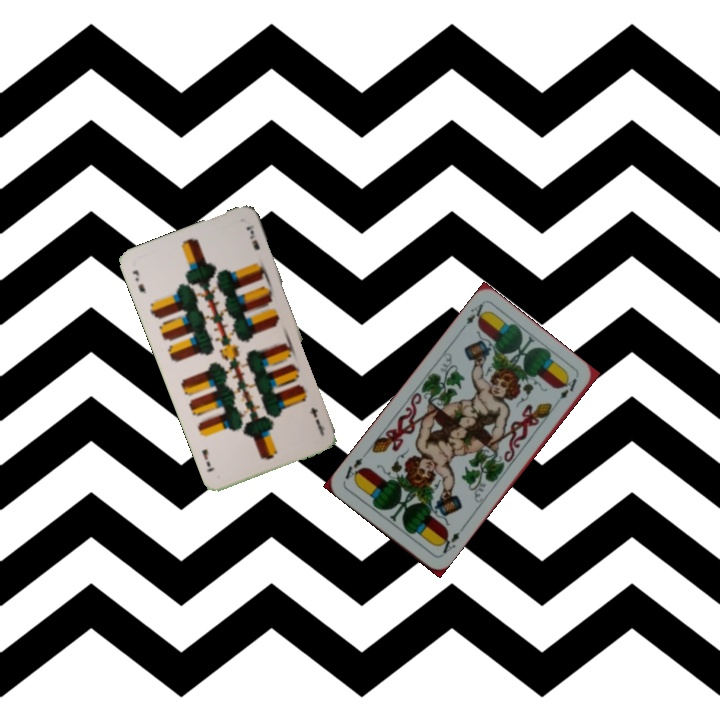E7: (308, 403, 327, 436), (128, 266, 148, 296)
EA: (456, 299, 489, 334), (434, 528, 463, 559)
